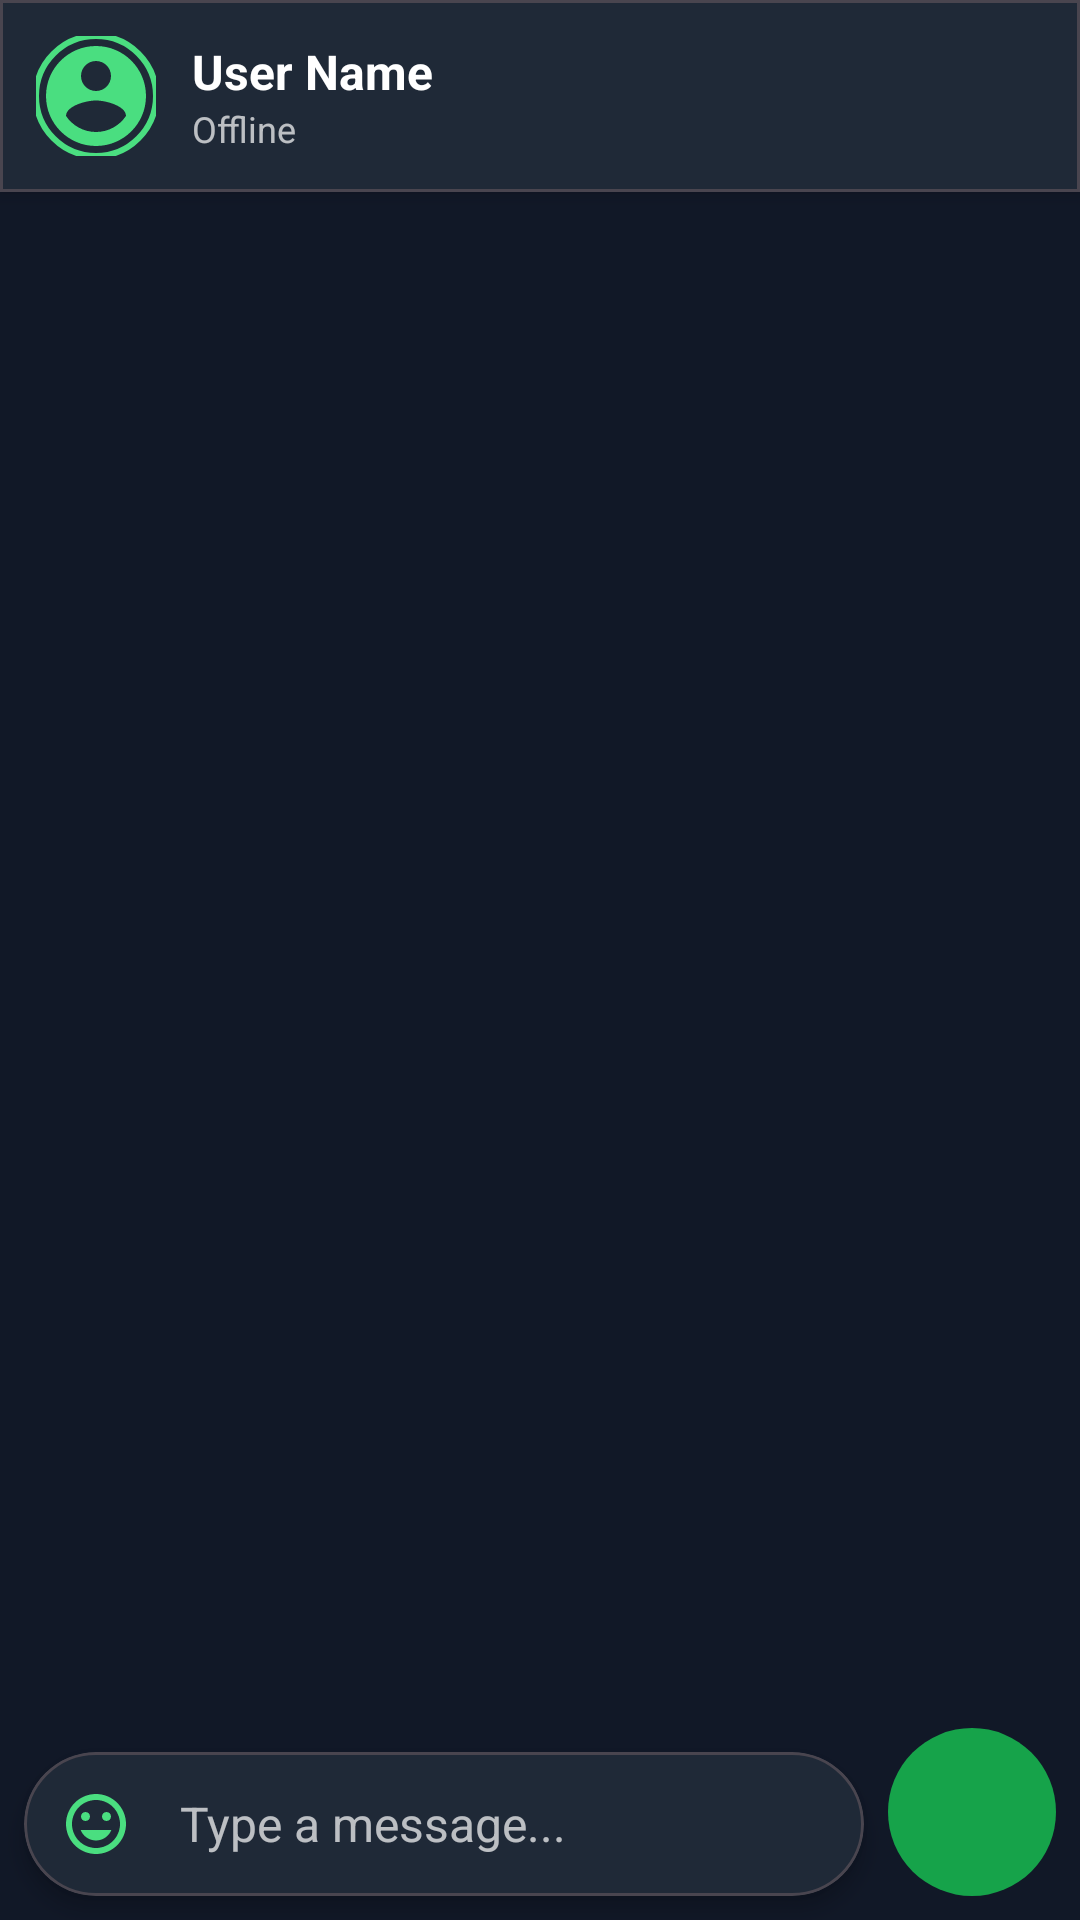

Icon click points for this 1080*1920 phone screenshot, format [x,y]:
emoji: [96,1824]
